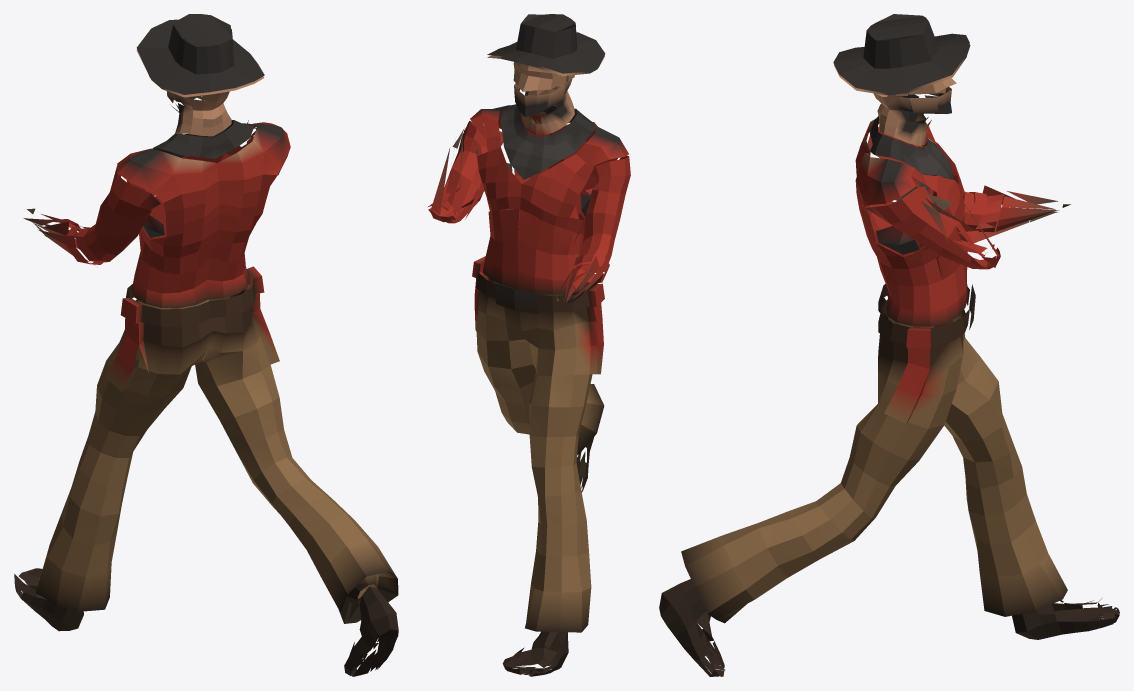
The model's file is man_1_c1.fbx.
The picture shows the model from 3 angles, left to right: view 1: azimuth 30°, elevation 25°; view 2: azimuth 150°, elevation 25°; view 3: azimuth 270°, elevation 25°; orthographic projection. The views are drawn at different scales.
Visible parts, largest first — view 1: cowboy; view 2: cowboy; view 3: cowboy.
Part boxes in pixels (x1=…): cowboy: x1=14, y1=14, x2=398, y2=676; cowboy: x1=427, y1=14, x2=630, y2=676; cowboy: x1=659, y1=14, x2=1119, y2=676.
Bounding box in the file's own units: 0.3304 × 0.9788 × 0.6263.
